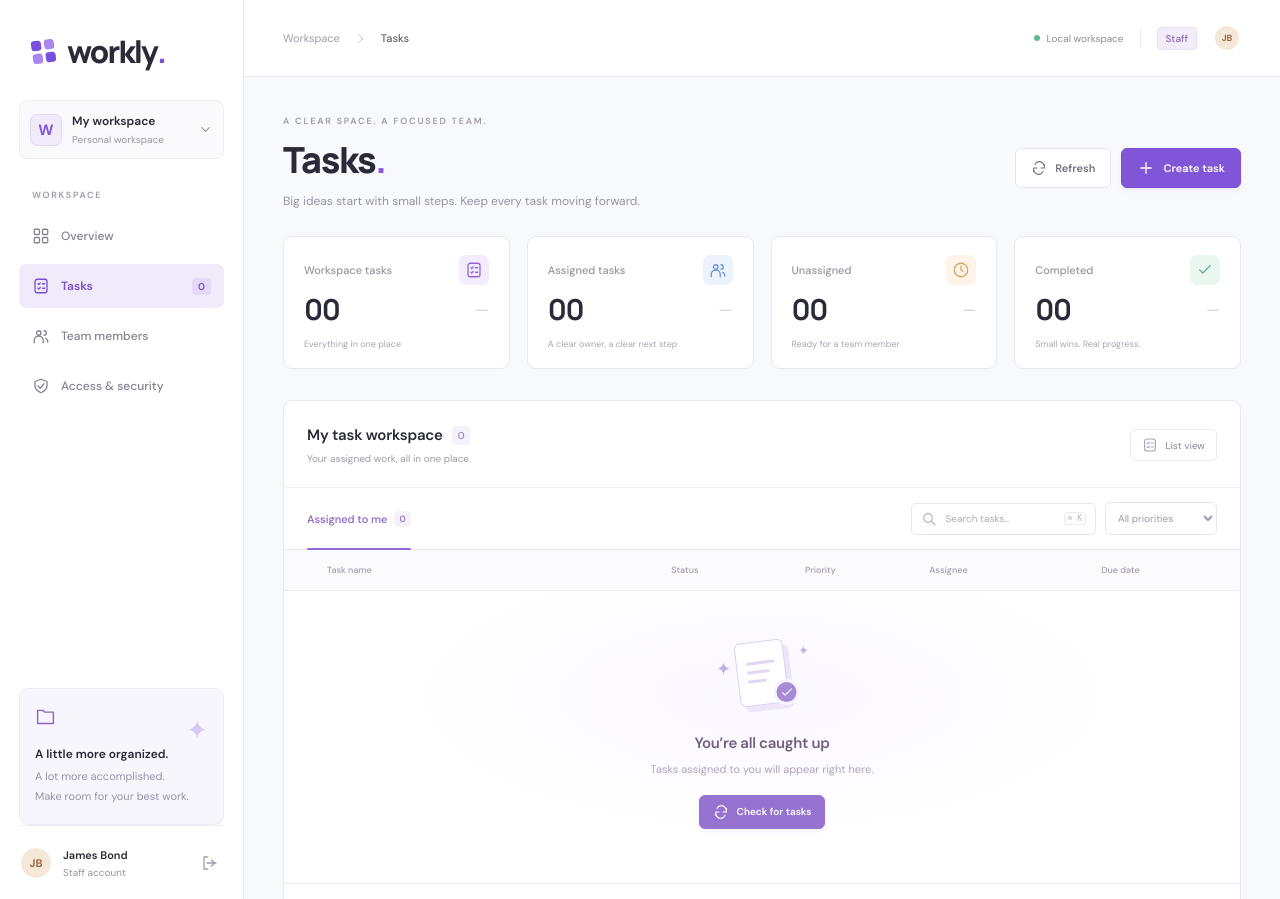
Test case: task workspace › clears expired sessions and provides an empty state for accounts without tasks
The width and height of the screenshot is (1280, 899).
Expected: the heading "You’re all caught up" is shown, 694,733 -> 830,753
Click the button "Refresh". click: (1063, 168)
box: 1015,148 -> 1112,188
(page scrolled)
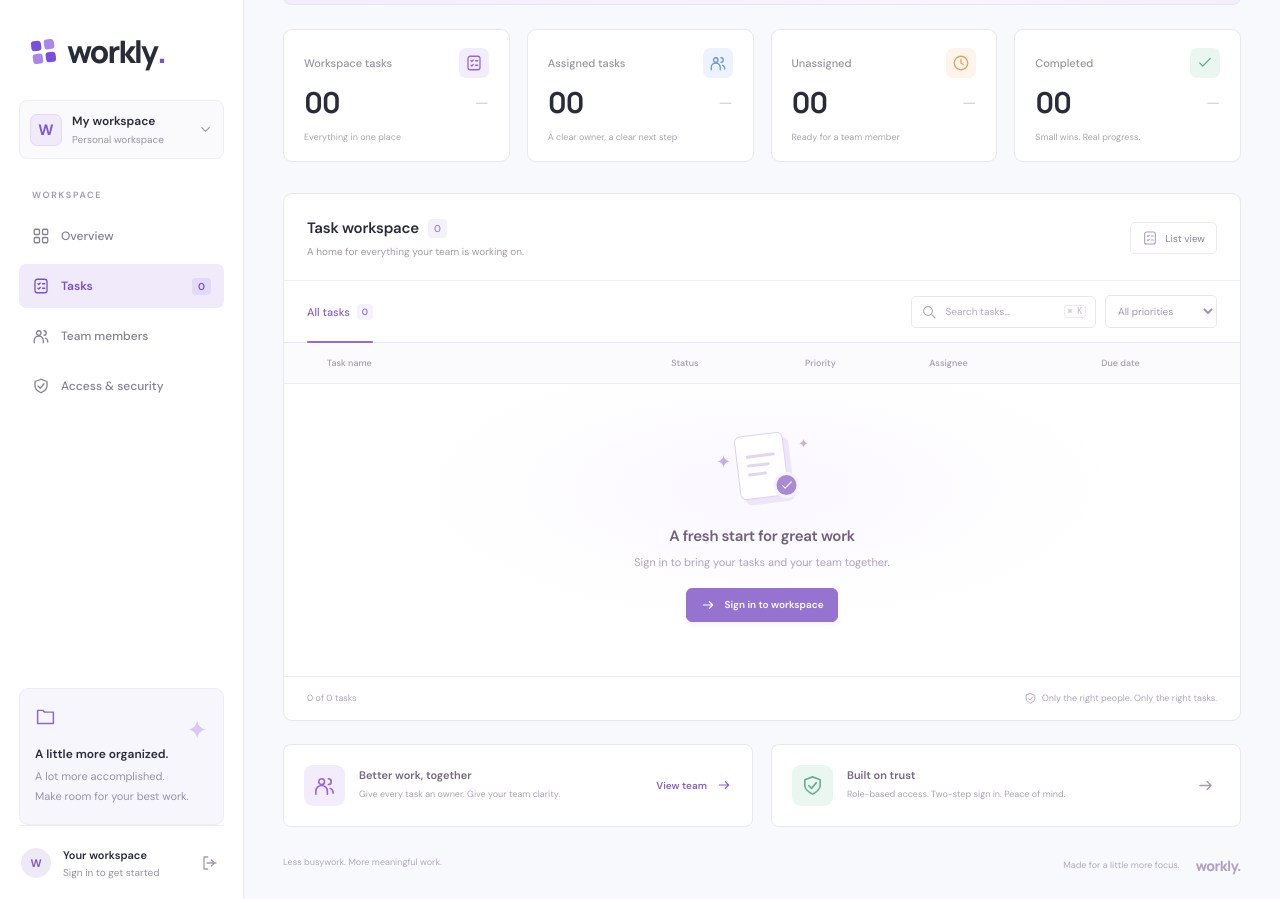
Now the heading "A fresh start for great work" is shown, box 669,526 -> 855,546
